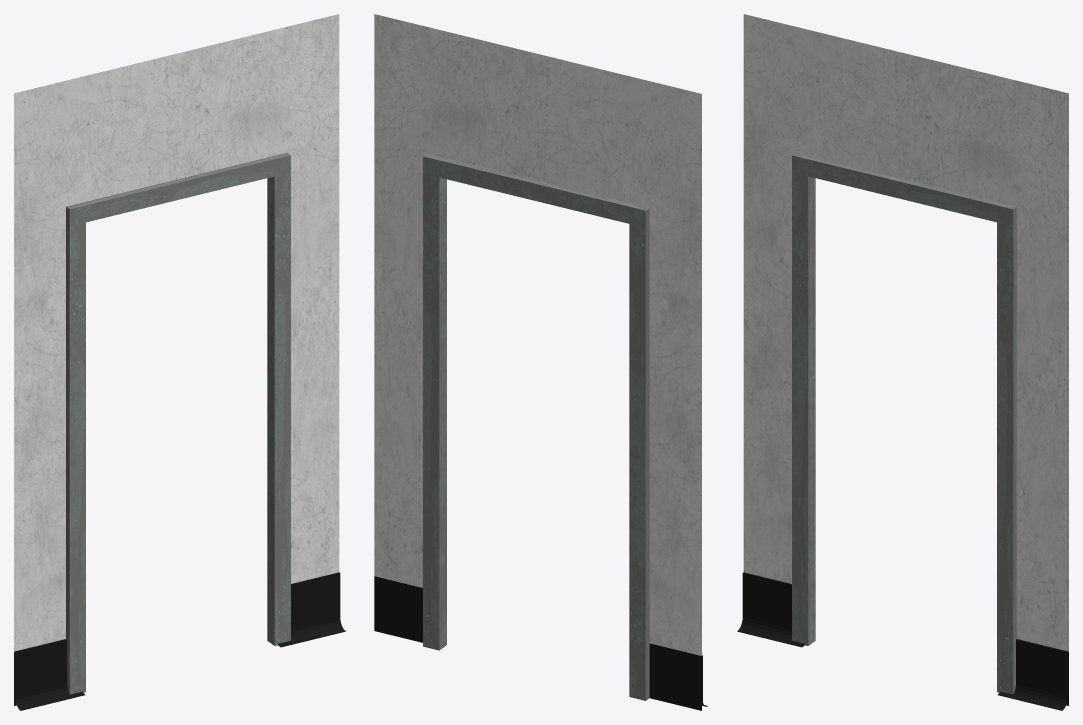
File: Doorframe 3x7.fbx
3 views of the same model, side by side, from view 1: azimuth 30°, elevation 25°; view 2: azimuth 150°, elevation 25°; view 3: azimuth 330°, elevation 25° (orthographic).
Visible parts, largest first — view 1: Doorframe3x7.002; view 2: Doorframe3x7.002; view 3: Doorframe3x7.002.
Boxes of the visible parts, <box> form: Doorframe3x7.002: <box>14,14,345,710</box>; Doorframe3x7.002: <box>374,14,707,710</box>; Doorframe3x7.002: <box>737,14,1068,710</box>.
Bounding box in the file's own units: 5 × 9 × 0.2773.
